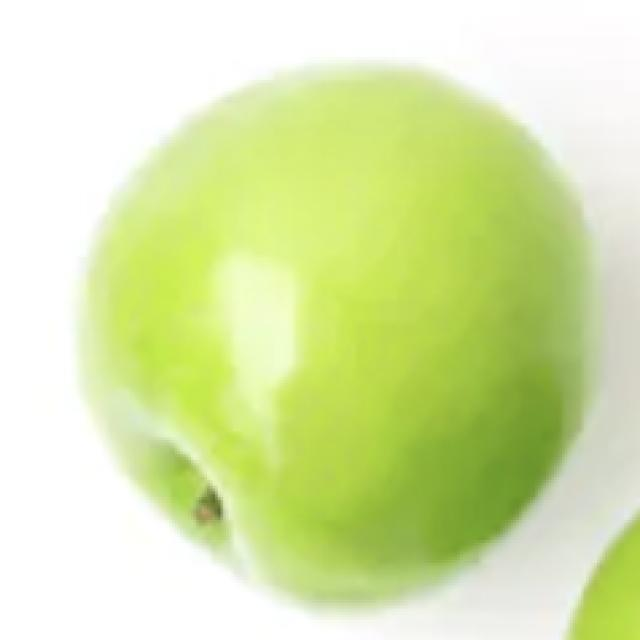Fresh Apple: (99, 72, 618, 580)
